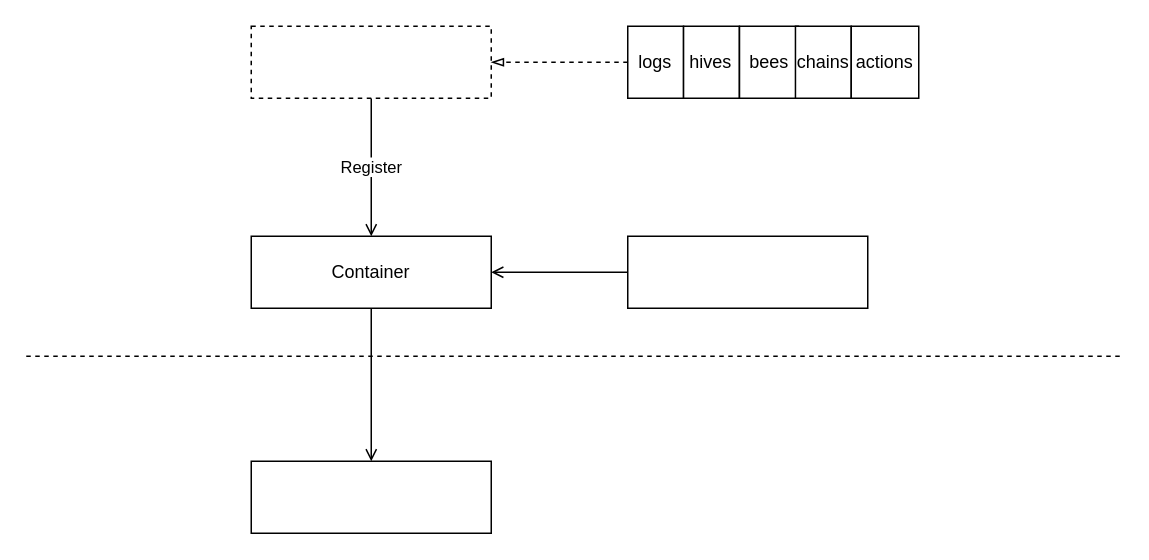
Image size: 1149x560. Some labels were removed from this diagram. The box of each missing label's shape, as (x1, y1, x2, y2) in pixels:
api: (250, 460, 491, 533)
other Handles Like oAuth2,assert: (626, 235, 868, 308)
Resource: (250, 25, 491, 98)
